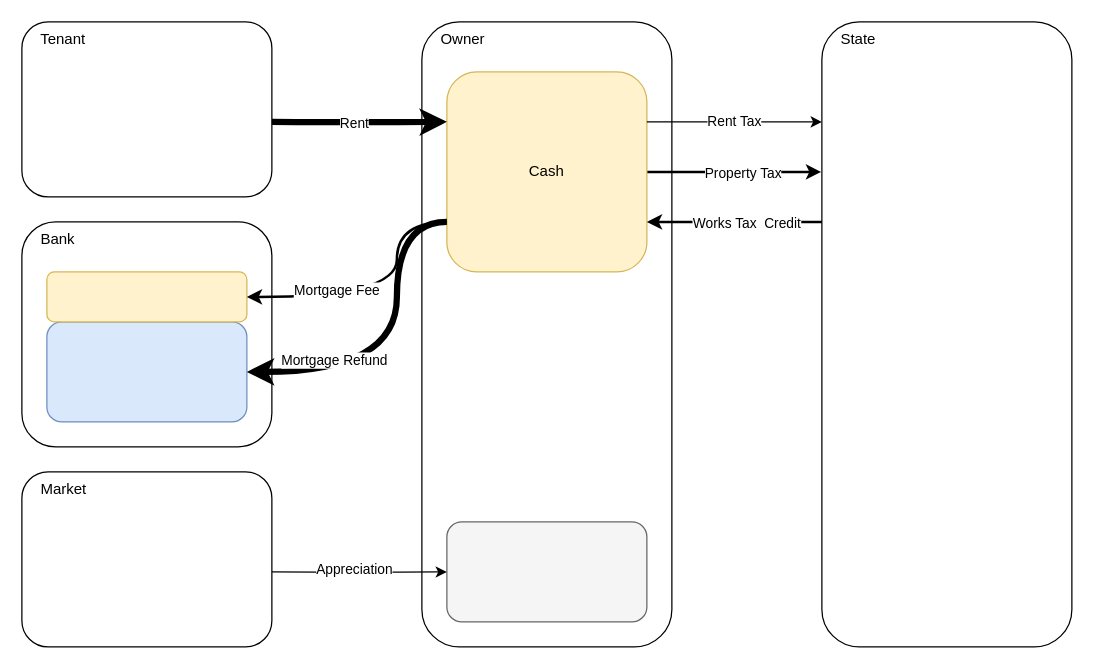
Image size: 1094x669. Some labels were removed from this diagram. Each missing label, with the centre of its shape:
"Fee" belongs at point 146,296.
"Mortgage" belongs at point 146,371.
"Property" belongs at point 546,571.
